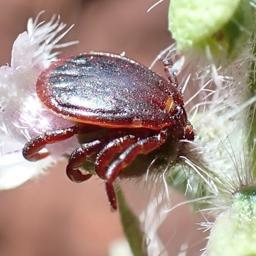Rhipicephalus sanguineus: (22, 51, 196, 213)
